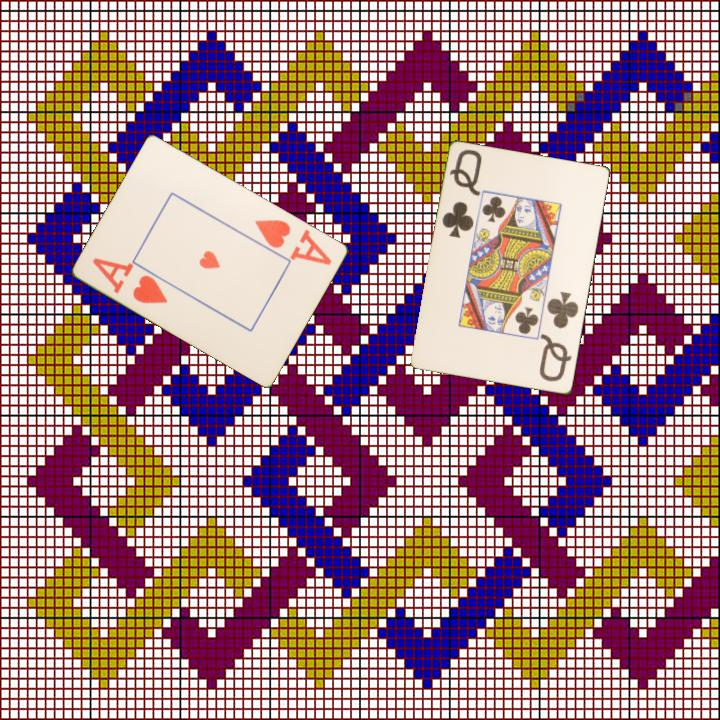Ah: (251, 216, 335, 268), (89, 254, 171, 307)
Qc: (536, 288, 582, 385), (439, 146, 485, 241)
